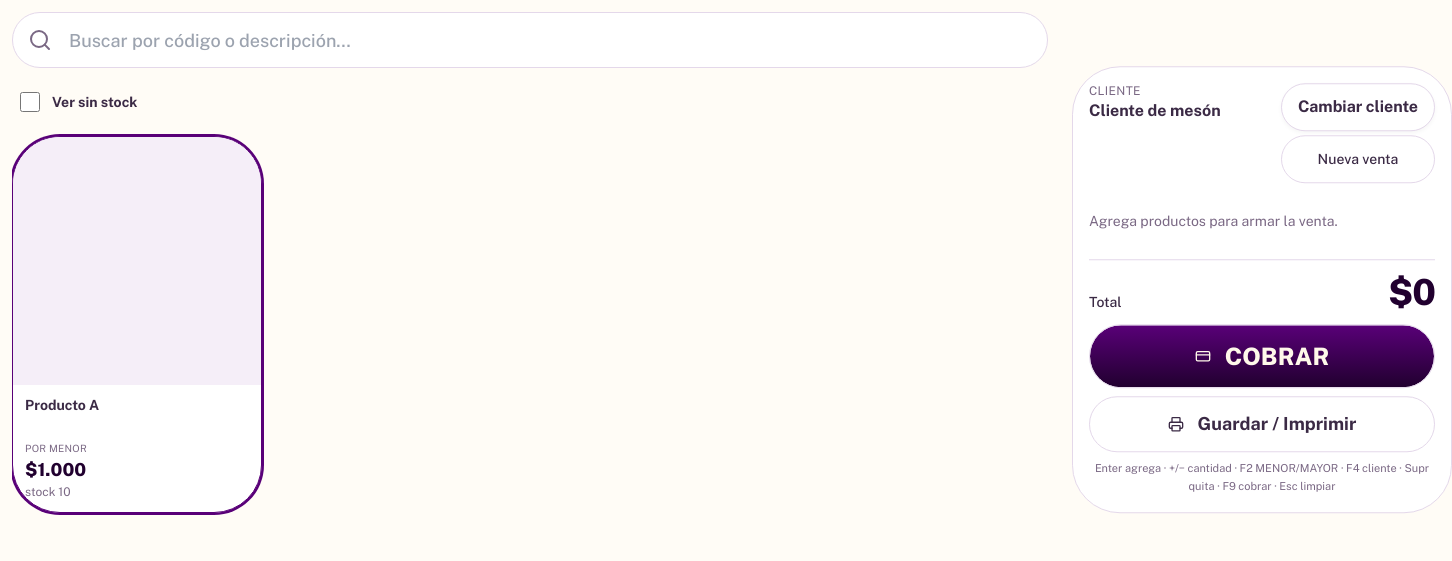
Test case: pos-detalles — venta en curso por usuario › sin sesión no se persiste ninguna venta en curso
Click the button with test id "pos-producto-GL1" at (137, 324), box 12,136 -> 262,513
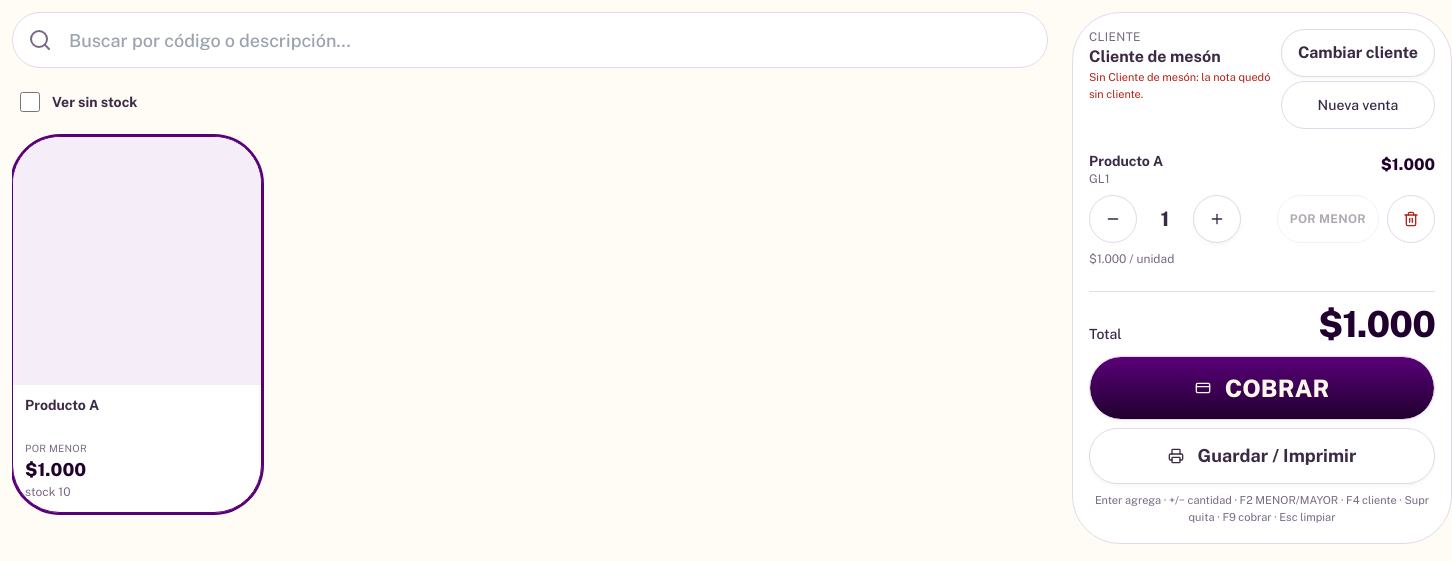
Check: the list item with test id "pos-linea-GL1" is shown, box 1089,141 -> 1435,278
